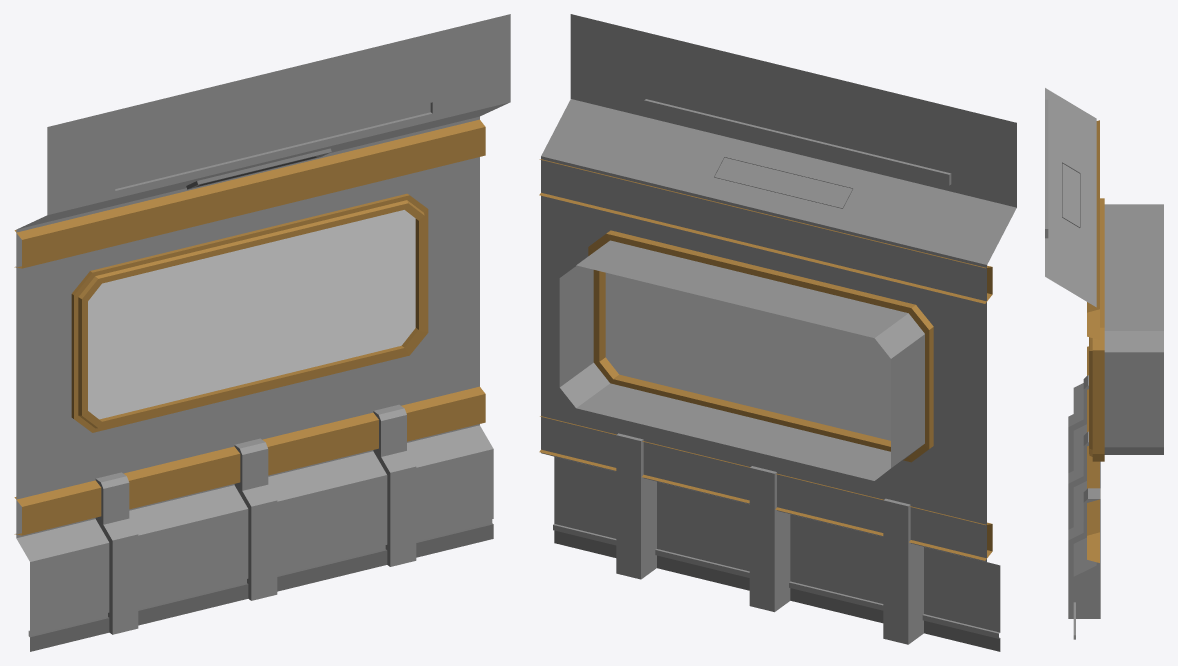
The model's file is Window_Wall_SideA.fbx.
The picture shows the model from 3 angles, left to right: view 1: azimuth 30°, elevation 25°; view 2: azimuth 150°, elevation 25°; view 3: azimuth 270°, elevation 25°; orthographic projection. The views are drawn at different scales.
Parts seen in each view (by area): view 1: Window_Wall_SideA; view 2: Window_Wall_SideA; view 3: Window_Wall_SideA.
Part boxes in pixels (x1,y1,x2,y2): Window_Wall_SideA: (14, 14, 510, 651); Window_Wall_SideA: (539, 14, 1016, 651); Window_Wall_SideA: (1045, 88, 1163, 639).
Bounding box in the file's own units: 400 × 443 × 106.
